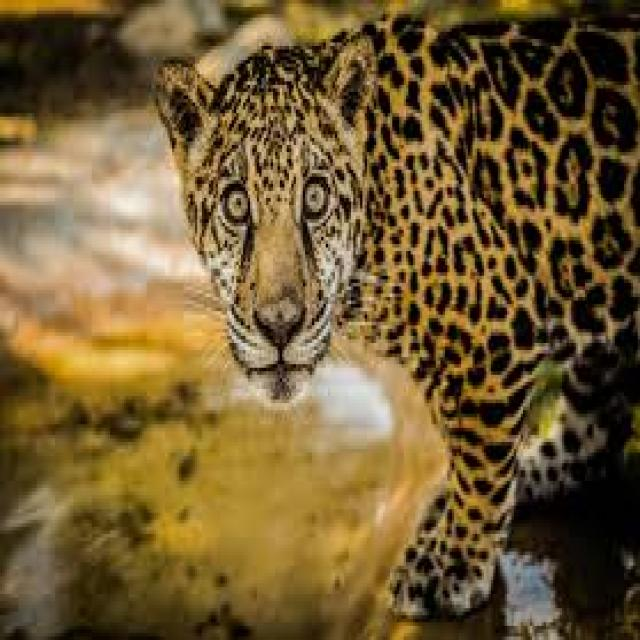Jaguar: (147, 21, 640, 619)
